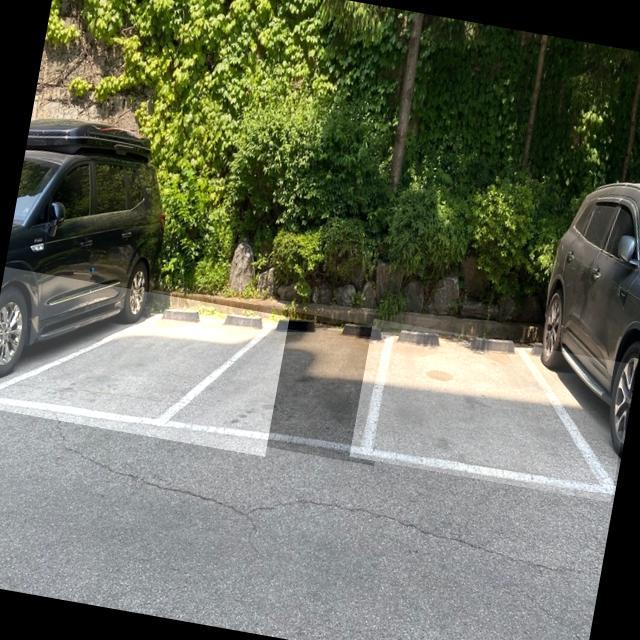empty: (360, 325, 611, 493), (0, 305, 289, 433), (149, 316, 397, 459)
